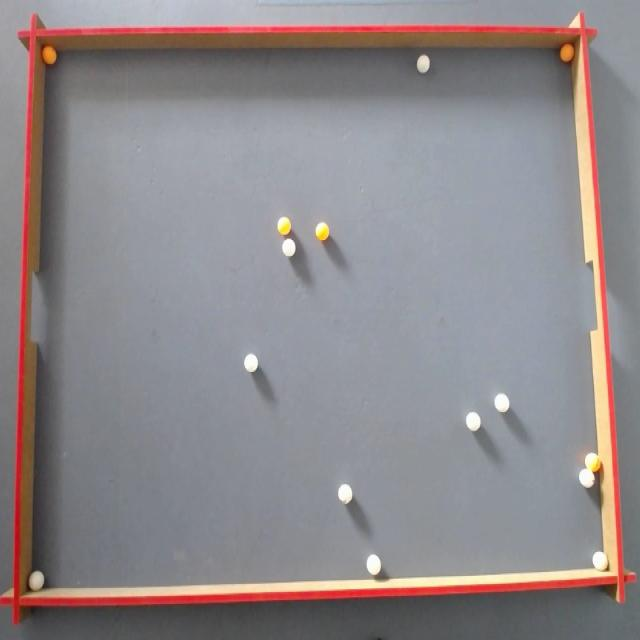orange_ball: (42, 45, 56, 65), (586, 452, 600, 472), (560, 44, 574, 62), (315, 222, 329, 240), (278, 217, 290, 234)
white_ball: (28, 570, 45, 592), (366, 554, 381, 574), (593, 551, 608, 571), (579, 468, 594, 488), (494, 393, 509, 412), (466, 412, 481, 431), (338, 484, 352, 504), (244, 353, 258, 372), (282, 238, 296, 256), (416, 54, 429, 73)
